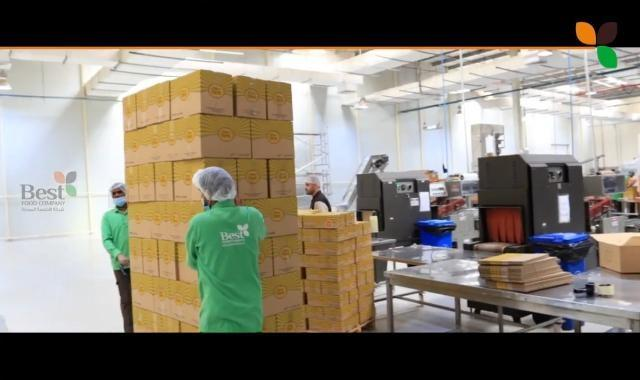gloves: (192, 166, 238, 200), (303, 172, 322, 188), (109, 179, 125, 192)
no_apron: (113, 250, 132, 268)
no_hairnet: (108, 189, 129, 208), (302, 183, 319, 196)
